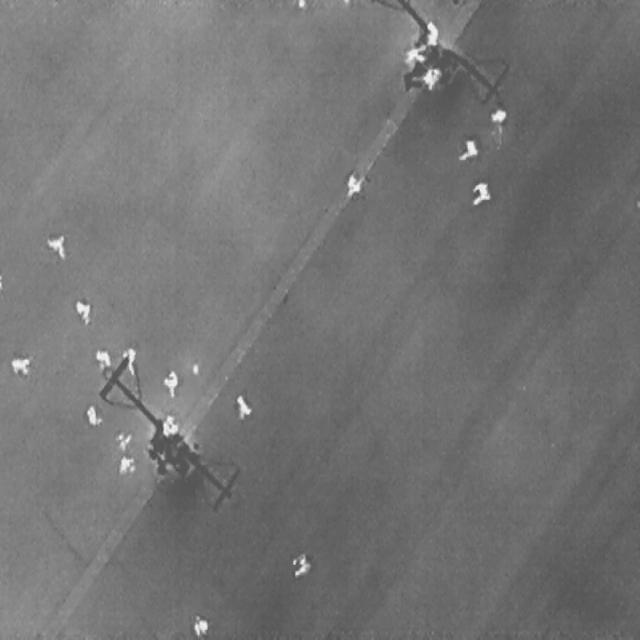Person: (403, 40, 427, 65), (455, 136, 479, 160), (290, 552, 311, 578), (43, 234, 63, 258), (119, 347, 135, 375), (162, 369, 178, 396), (191, 612, 208, 636), (471, 182, 489, 204), (346, 170, 361, 195), (424, 66, 440, 89), (489, 105, 507, 125), (75, 300, 90, 324), (236, 393, 250, 418), (91, 348, 109, 367), (425, 20, 438, 46), (86, 405, 102, 425), (116, 456, 135, 472), (162, 415, 176, 436), (11, 358, 29, 373), (115, 430, 130, 448)
